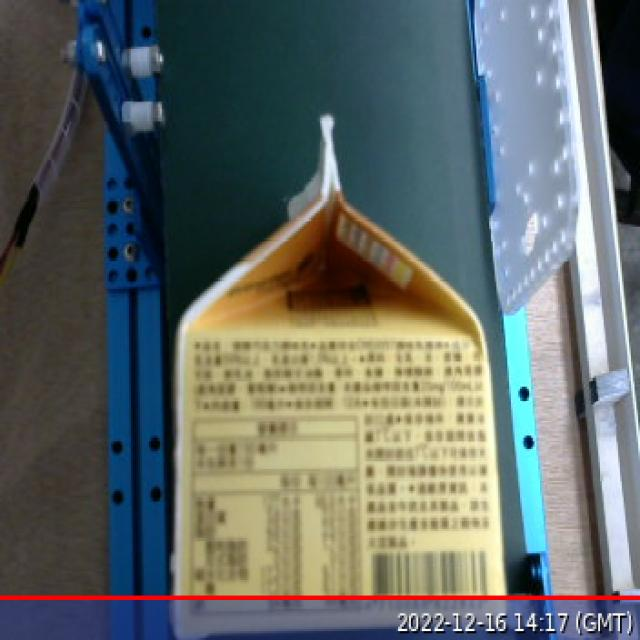non_white_jug: (158, 88, 519, 636)
